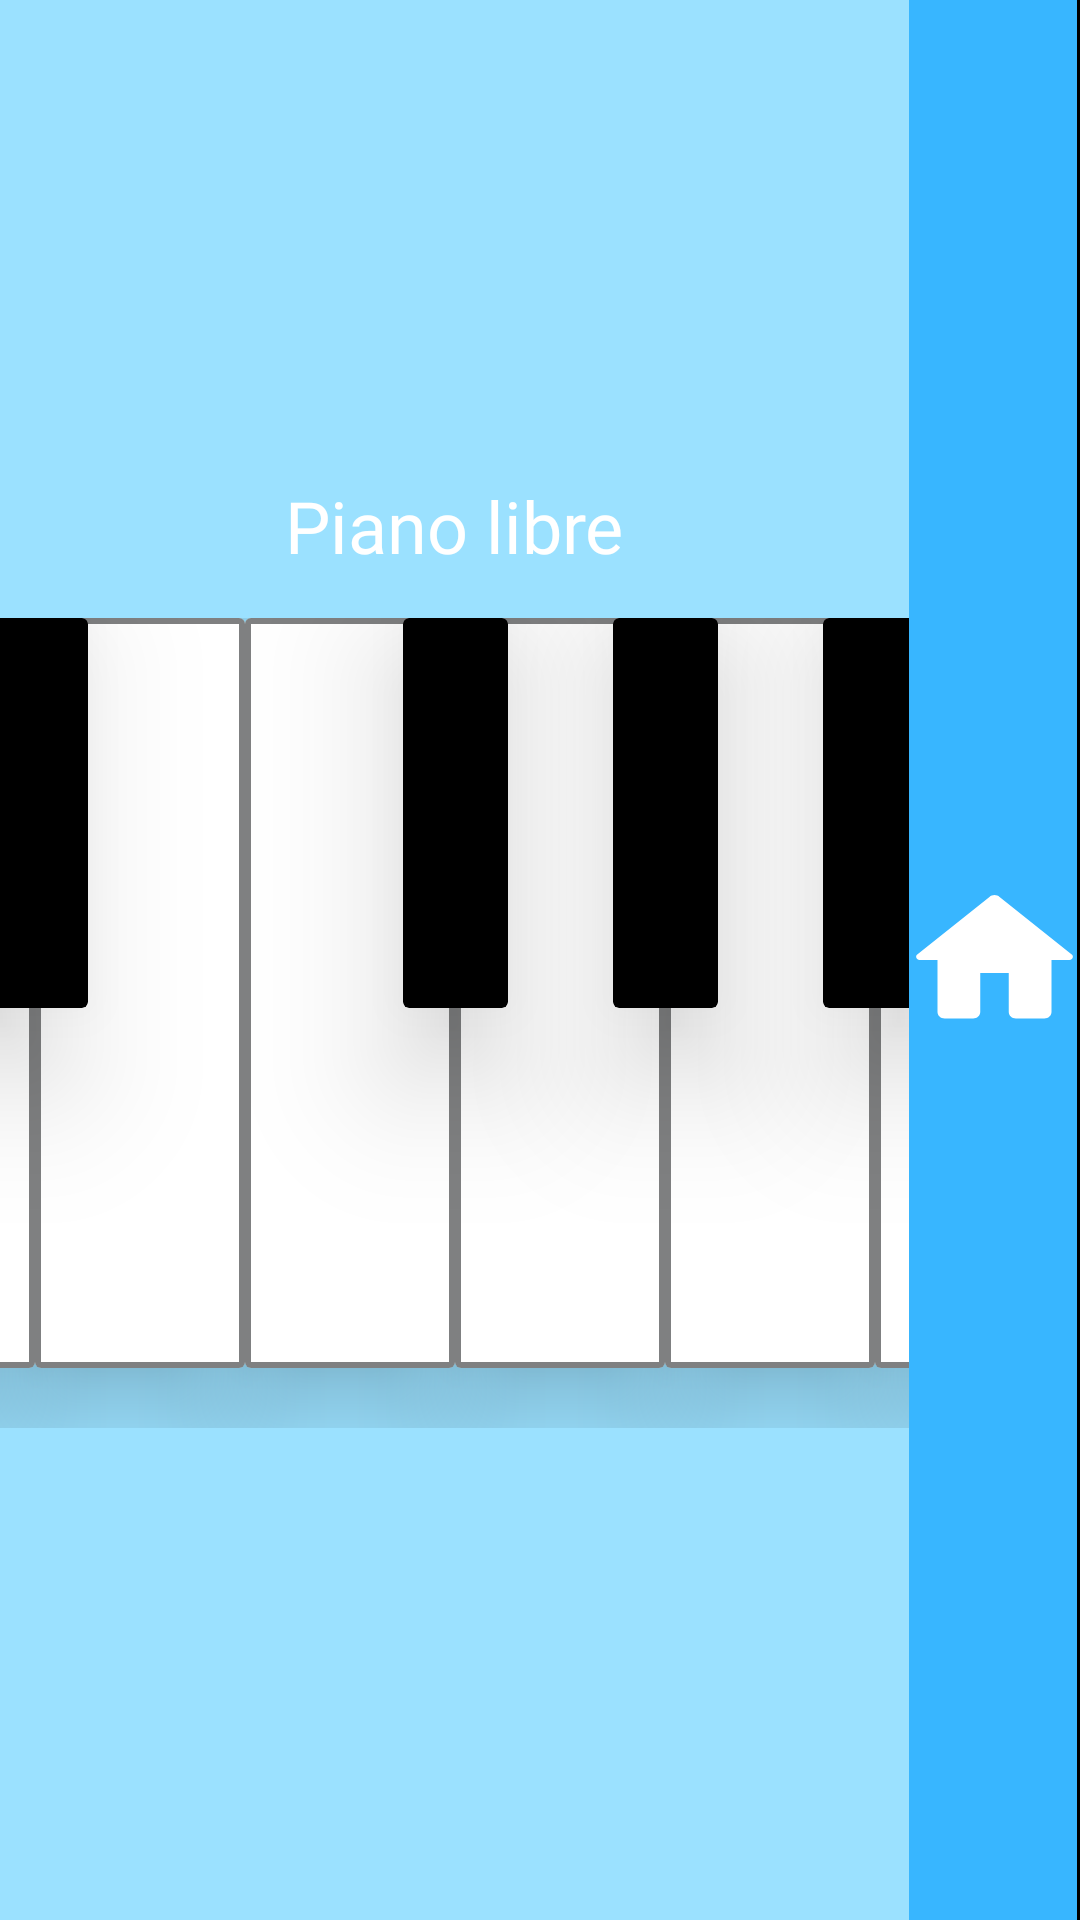

Where to tap for icons on this 1080w x 1920h app screen, as (x=x, y=y):
home: (x=994, y=957)
